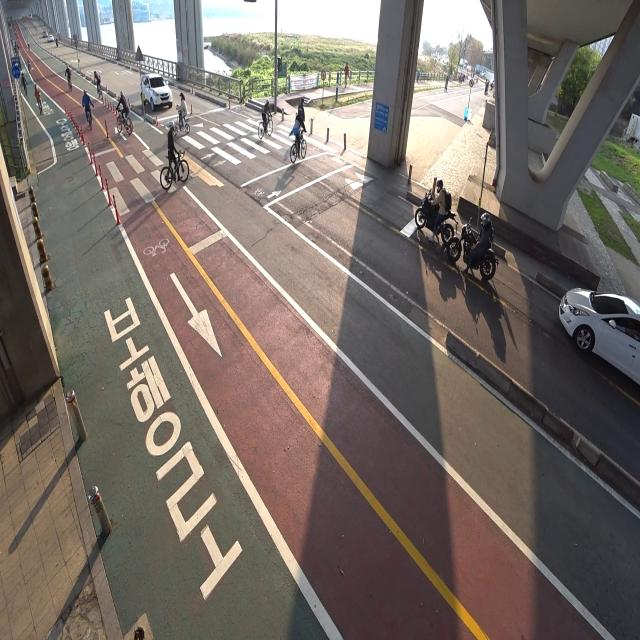Car: (543, 250, 640, 402), (131, 66, 174, 109)
Motorcycle: (445, 208, 497, 282), (414, 177, 456, 245)
